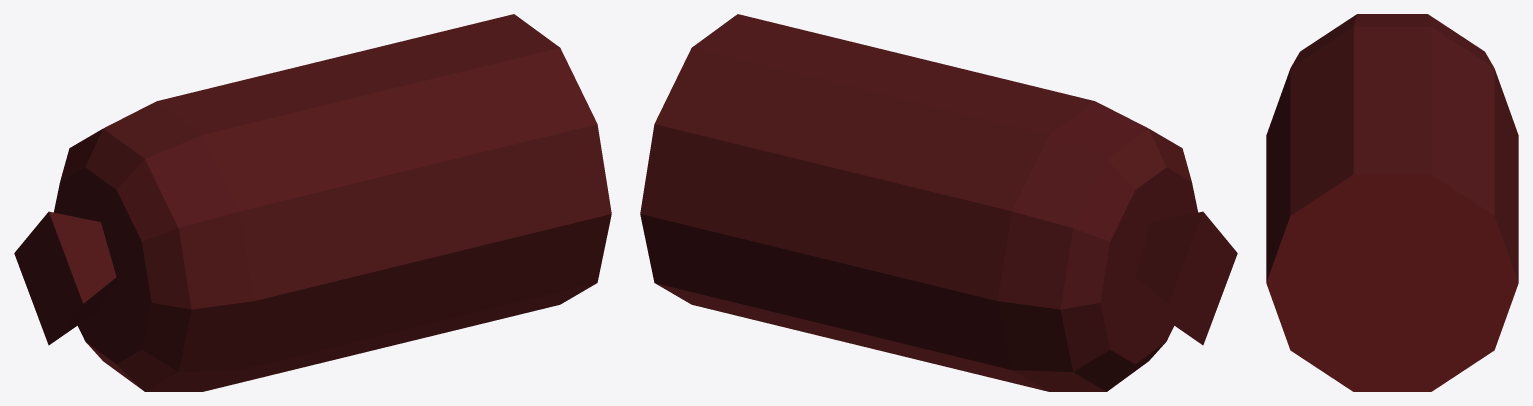
The model's file is pepperoniobj.fbx.
3 views of the same model, side by side, from view 1: azimuth 30°, elevation 25°; view 2: azimuth 150°, elevation 25°; view 3: azimuth 270°, elevation 25° (orthographic). The views are drawn at different scales.
Parts seen in each view (by area): view 1: Cylinder; view 2: Cylinder; view 3: Cylinder.
Boxes of the visible parts, box(x1,y1,x2,y2) form: Cylinder: box(14, 14, 611, 391); Cylinder: box(640, 14, 1237, 391); Cylinder: box(1266, 14, 1518, 391).
Bounding box in the file's own units: 50.15 × 25.21 × 26.51.
